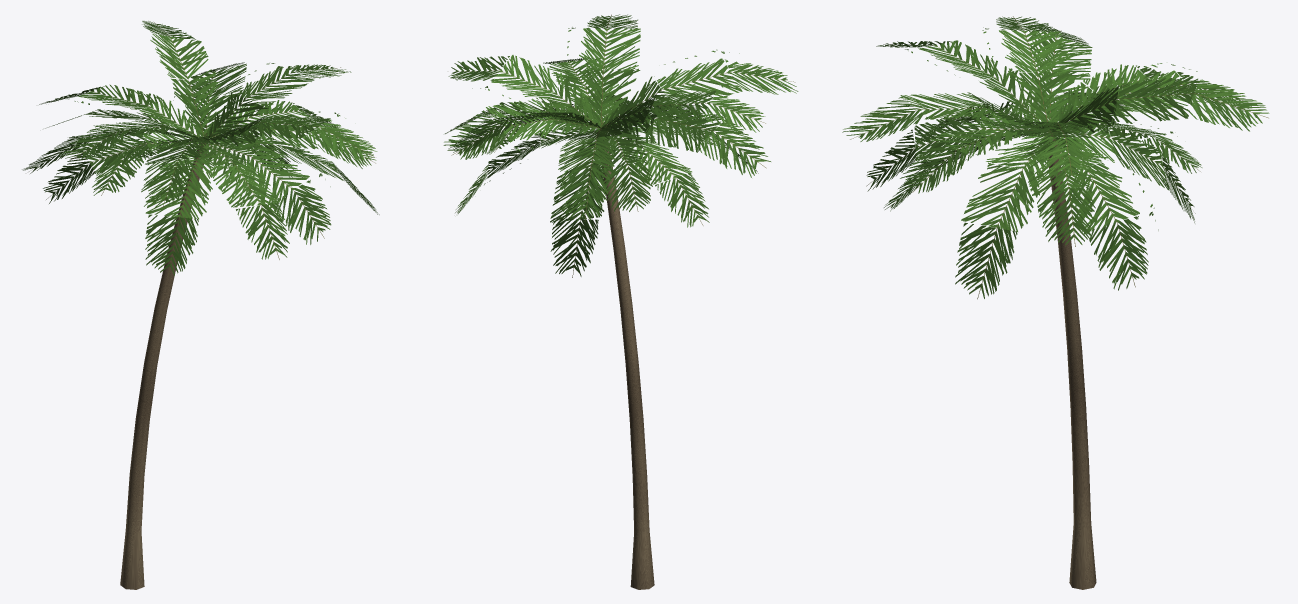
The model's file is near.glb.
The picture shows the model from 3 angles, left to right: view 1: azimuth 30°, elevation 25°; view 2: azimuth 150°, elevation 25°; view 3: azimuth 270°, elevation 25°; orthographic projection. The views are drawn at different scales.
Parts seen in each view (by area): view 1: palm_04; view 2: palm_04; view 3: palm_04.
Part boxes in pixels (x1=…): palm_04: x1=22, y1=21, x2=379, y2=589; palm_04: x1=443, y1=14, x2=798, y2=589; palm_04: x1=842, y1=16, x2=1269, y2=589.
Bounding box in the file's own units: 10.96 × 15.71 × 11.66.
Materials: 2 (2 with a texture image).
